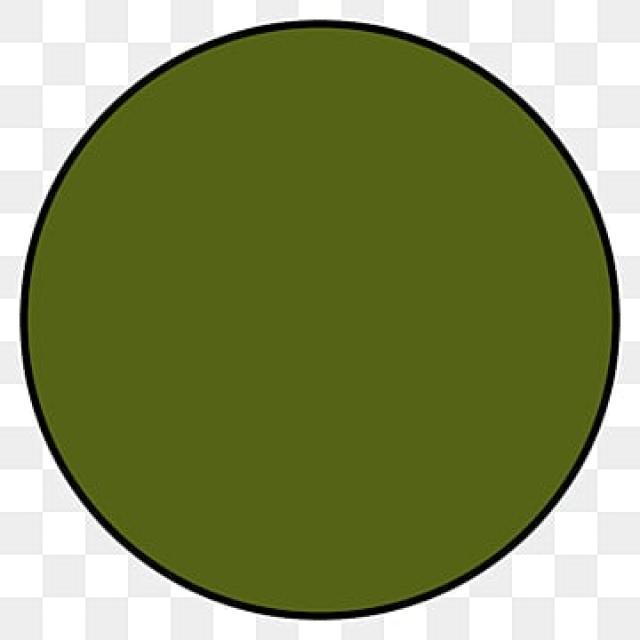Circle: (18, 20, 622, 620)
